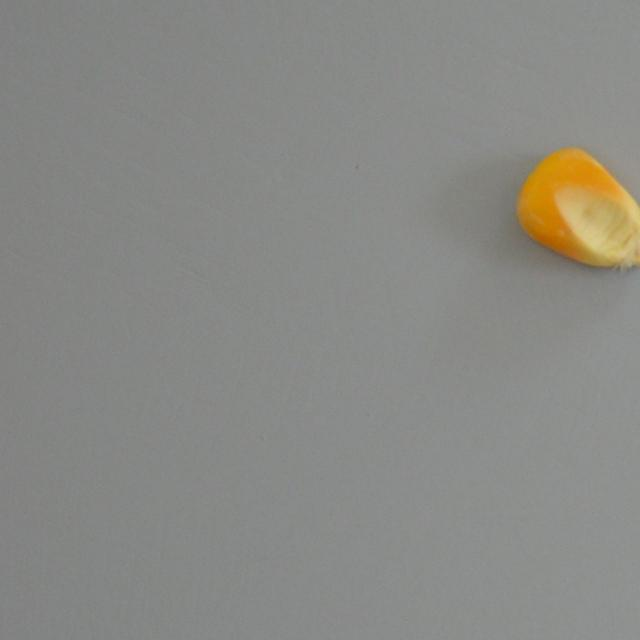entero: (512, 144, 640, 272)
